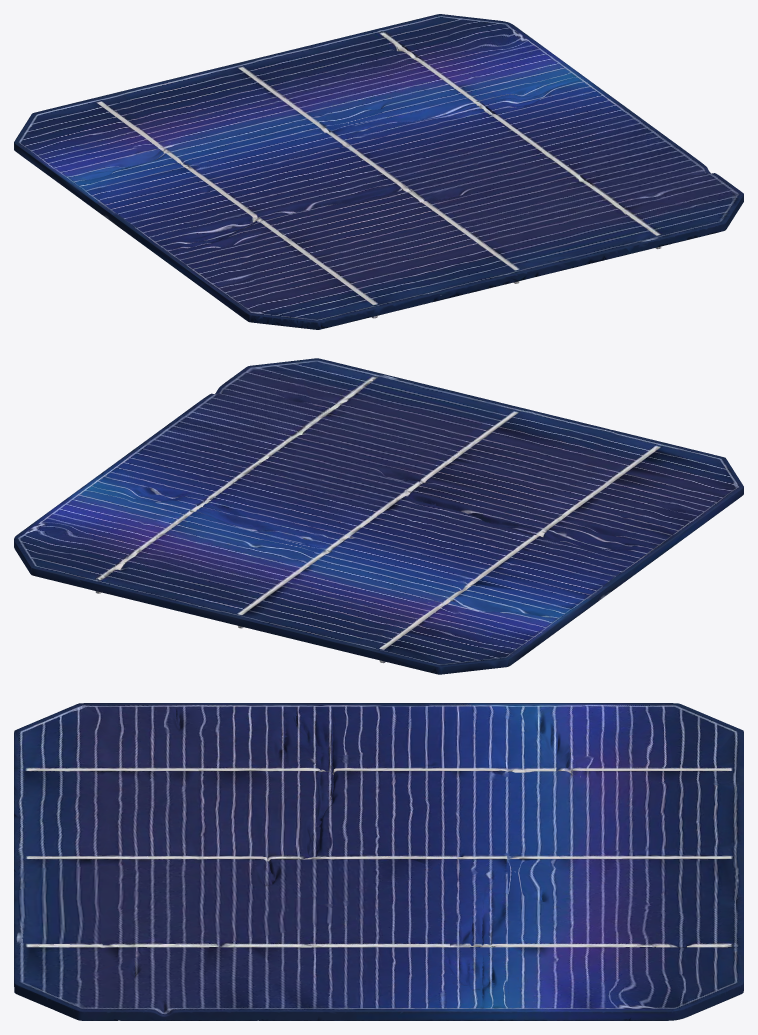
File: wafer.glb
The picture shows the model from 3 angles, top to bottom: view 1: azimuth 30°, elevation 25°; view 2: azimuth 150°, elevation 25°; view 3: azimuth 270°, elevation 25°; orthographic projection. The views are drawn at different scales.
Visible parts, largest first — view 1: tripo_node_1e20f1dc-628a-4dc8-b263-c45337b77ab9; view 2: tripo_node_1e20f1dc-628a-4dc8-b263-c45337b77ab9; view 3: tripo_node_1e20f1dc-628a-4dc8-b263-c45337b77ab9.
Boxes of the visible parts, x1,y1,x2,y2 form: tripo_node_1e20f1dc-628a-4dc8-b263-c45337b77ab9: (14,14,743,329); tripo_node_1e20f1dc-628a-4dc8-b263-c45337b77ab9: (14,358,743,674); tripo_node_1e20f1dc-628a-4dc8-b263-c45337b77ab9: (14,703,743,1020).
Bounding box in the file's own units: 32039 × 915 × 32035.
1 material, 1 textured.
